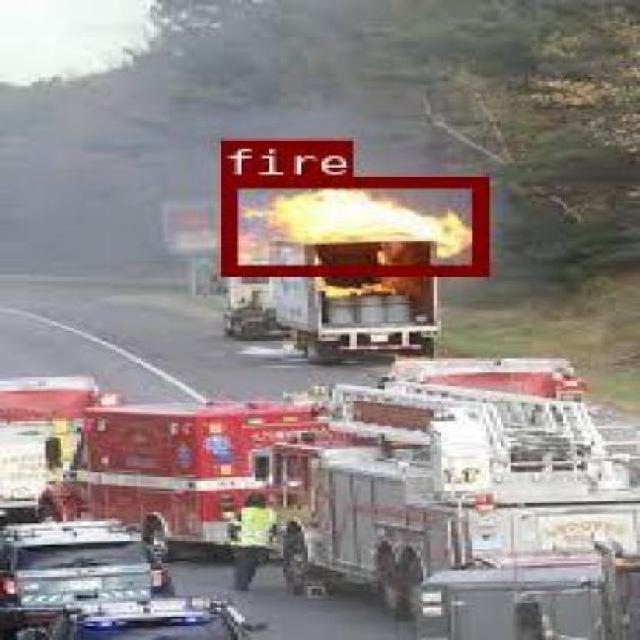Fire: (266, 99, 352, 224)
